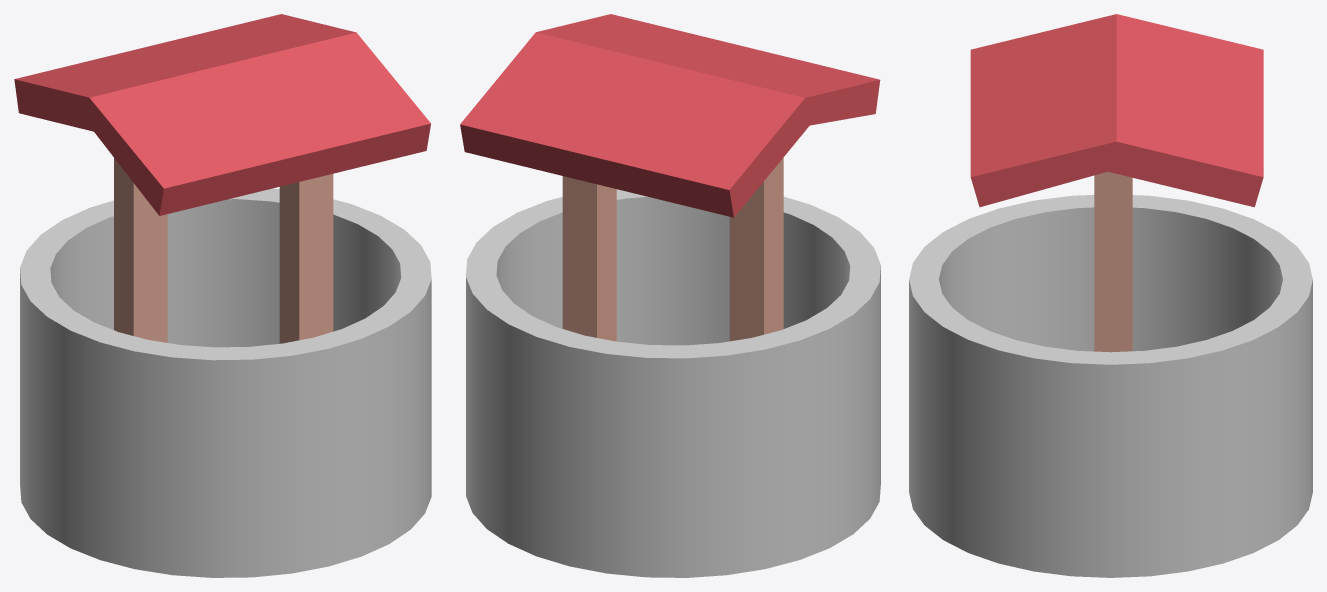
The model's file is well.fbx.
The picture shows the model from 3 angles, left to right: view 1: azimuth 30°, elevation 25°; view 2: azimuth 150°, elevation 25°; view 3: azimuth 270°, elevation 25°; orthographic projection. The views are drawn at different scales.
Visible parts, largest first — view 1: Cylinder; view 2: Cylinder; view 3: Cylinder.
Part boxes in pixels (x1=…): Cylinder: x1=14, y1=14, x2=431, y2=577; Cylinder: x1=460, y1=14, x2=880, y2=577; Cylinder: x1=909, y1=14, x2=1312, y2=577.
Size of the model in its own units: 148 by 168 by 148.
